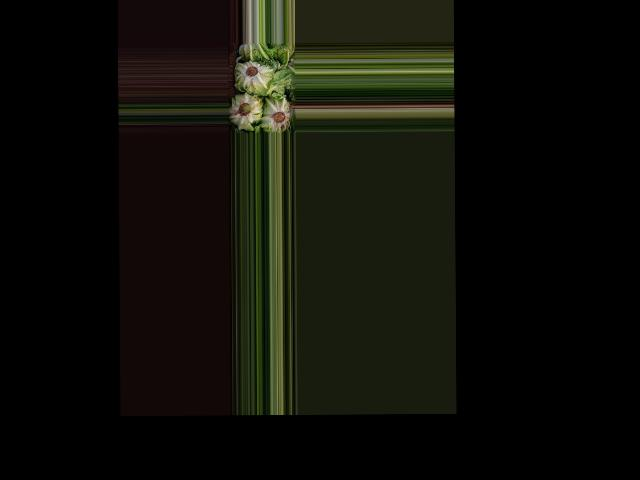lettuce: (260, 97, 291, 132)
